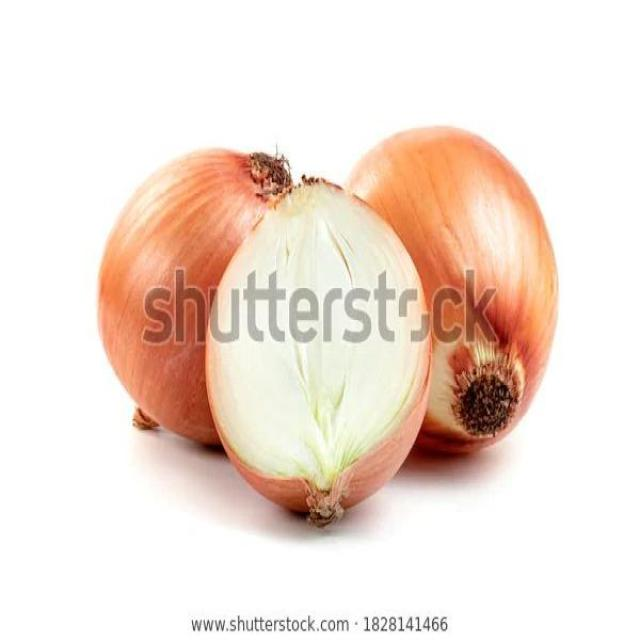Onion: (204, 181, 433, 529), (343, 126, 561, 458), (96, 148, 300, 449)
